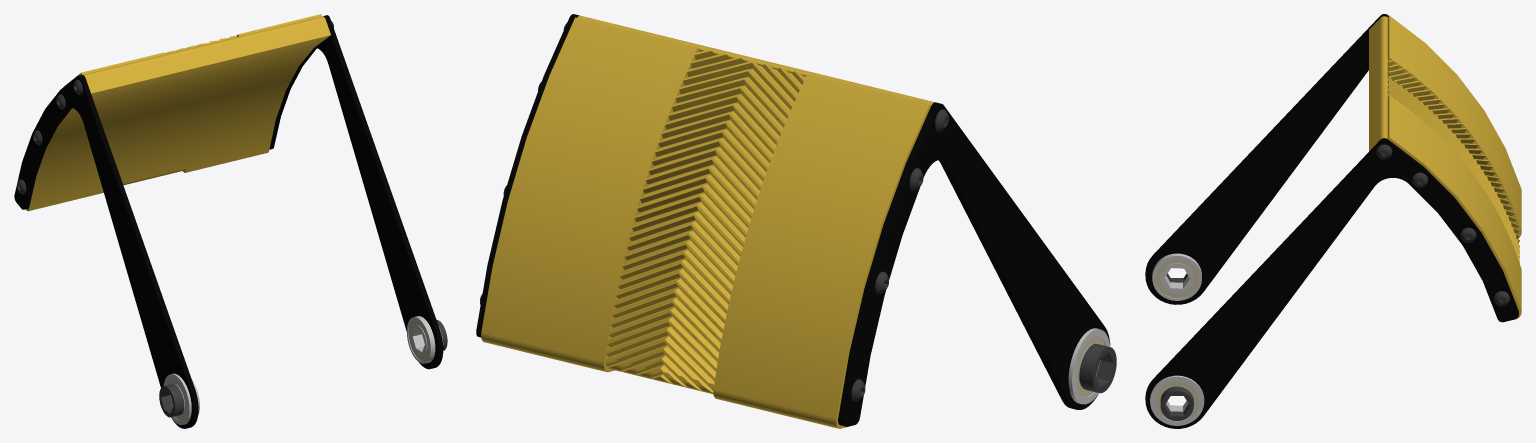
3 views of the same model, side by side, from view 1: azimuth 30°, elevation 25°; view 2: azimuth 150°, elevation 25°; view 3: azimuth 270°, elevation 25° (orthographic). The views are drawn at different scales.
Visible parts, largest first — view 1: Hood Moving Plate, Left Hood Plate, Right Hood Plate, 1/2" Hex Bore Bearing (1.125" OD, 0.313" WD, Shielded, Flang (×2), 1/2" Hex Bore Custom Spacer (0.75" OD,0.25" L); view 2: Hood Moving Plate, Left Hood Plate, Right Hood Plate, 1/2" Hex Bore Custom Spacer (0.75" OD,0.25" L), 1/2" Hex Bore Bearing (1.125" OD, 0.313" WD, Shielded, Flang; view 3: Hood Moving Plate, Right Hood Plate, Left Hood Plate, 1/2" Hex Bore Bearing (1.125" OD, 0.313" WD, Shielded, Flang (×2), 1/2" Hex Bore Custom Spacer (0.75" OD,0.25" L).
Boxes of the visible parts, <box> form: Hood Moving Plate: <box>26,14,330,211</box>; Left Hood Plate: <box>14,75,198,428</box>; Right Hood Plate: <box>269,15,443,369</box>; 1/2" Hex Bore Bearing (1.125" OD, 0.313" WD, Shielded, Flang (×2): <box>163,316,443,424</box>; 1/2" Hex Bore Custom Spacer (0.75" OD,0.25" L): <box>159,384,184,417</box>; Hood Moving Plate: <box>481,15,934,428</box>; Left Hood Plate: <box>838,102,1110,426</box>; Right Hood Plate: <box>476,14,579,337</box>; 1/2" Hex Bore Custom Spacer (0.75" OD,0.25" L): <box>1079,343,1116,393</box>; 1/2" Hex Bore Bearing (1.125" OD, 0.313" WD, Shielded, Flang: <box>1068,328,1110,404</box>; Hood Moving Plate: <box>1369,15,1521,322</box>; Right Hood Plate: <box>1145,138,1518,428</box>; Left Hood Plate: <box>1145,14,1388,304</box>; 1/2" Hex Bore Bearing (1.125" OD, 0.313" WD, Shielded, Flang (×2): <box>1150,253,1204,425</box>; 1/2" Hex Bore Custom Spacer (0.75" OD,0.25" L): <box>1160,386,1193,420</box>.
Bounding box in the file's own units: 0.1873 × 0.183 × 0.2155.
